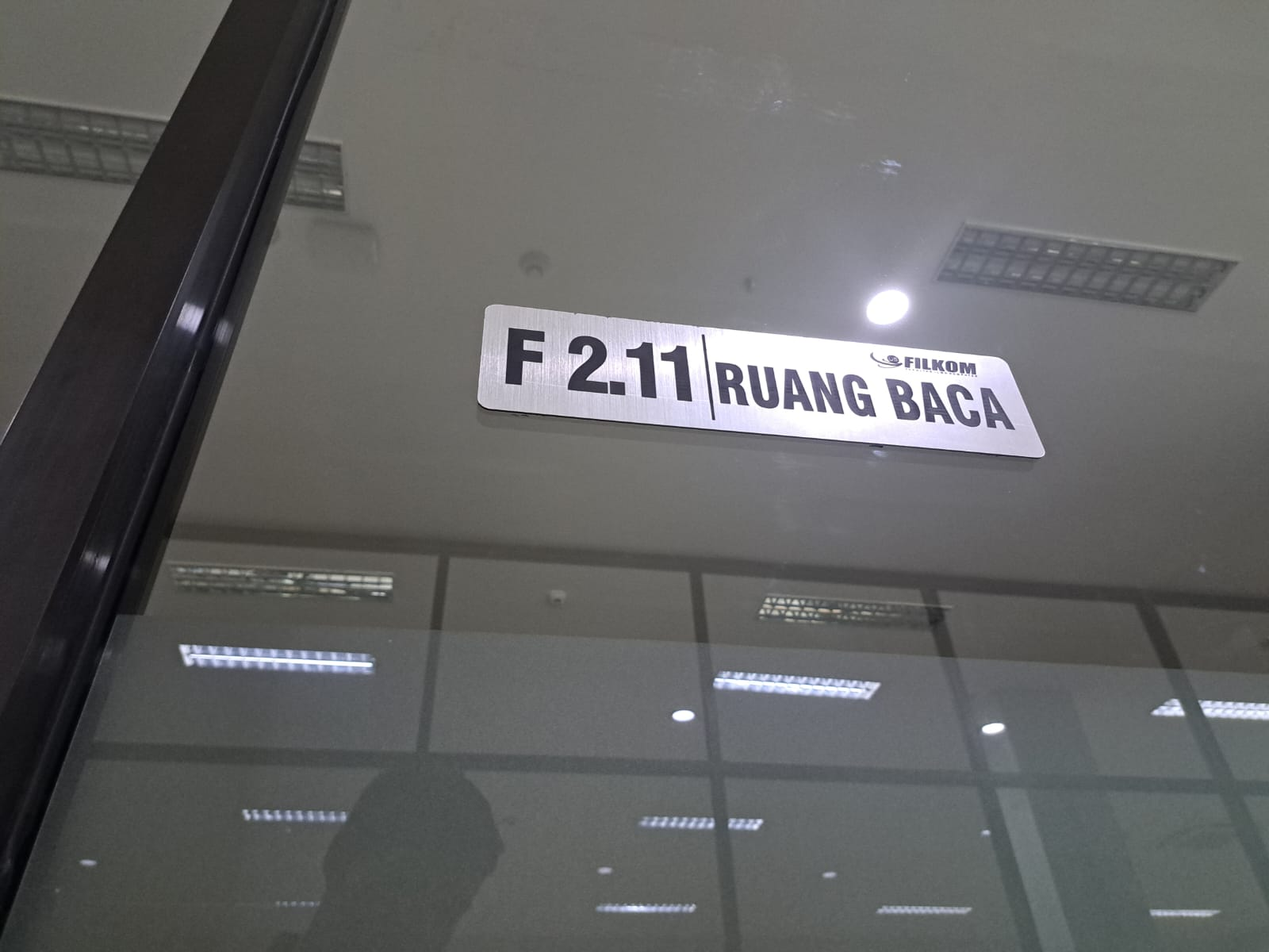ruangan: (463, 293, 1053, 468)
